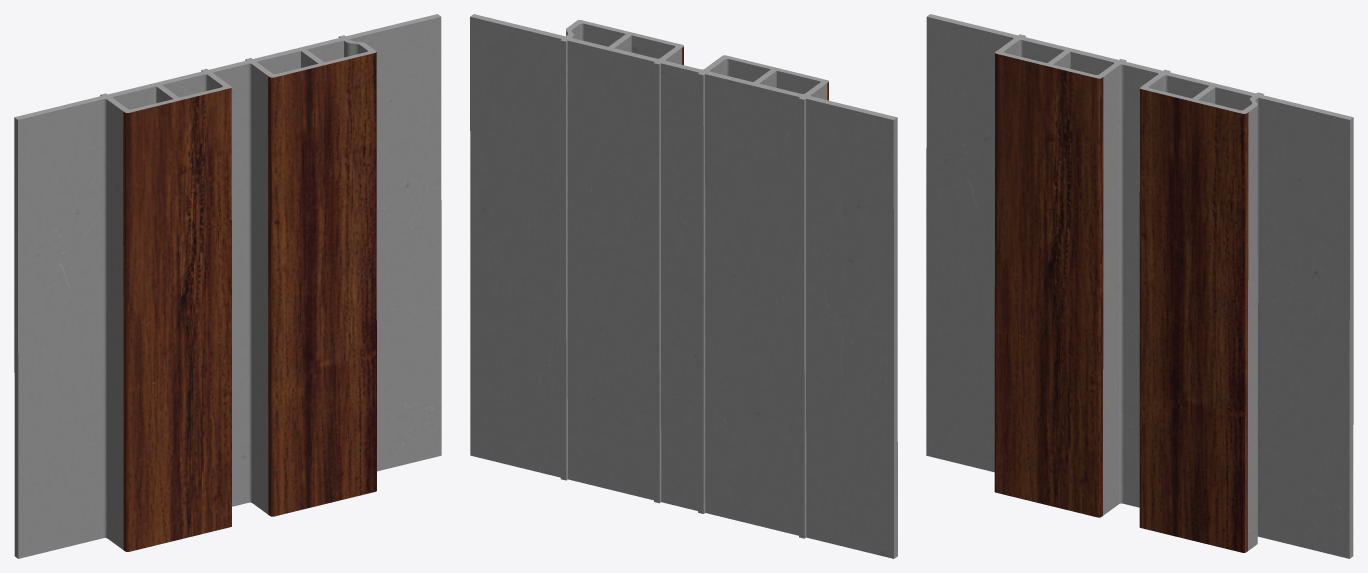
Rendered from ikibolmeli.glb.
3 views of the same model, side by side, from view 1: azimuth 30°, elevation 25°; view 2: azimuth 150°, elevation 25°; view 3: azimuth 330°, elevation 25° (orthographic).
Visible parts, largest first — view 1: Plane.001; view 2: Plane.001; view 3: Plane.001.
Part boxes in pixels (bbox=[...]): Plane.001: bbox=[14, 14, 441, 558]; Plane.001: bbox=[470, 14, 897, 558]; Plane.001: bbox=[926, 14, 1353, 558].
Bounding box in the file's own units: 8.1 × 8.03 × 0.8706.
2 materials, 2 textured.
